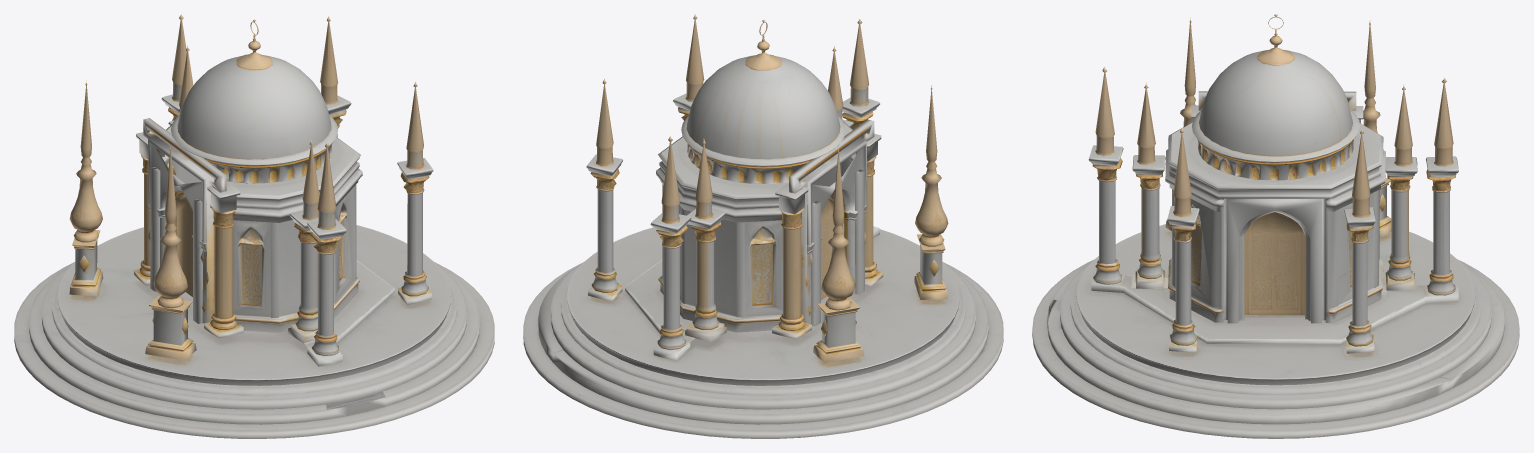
The model's file is 天庭3d模型.fbx.
3 views of the same model, side by side, from view 1: azimuth 30°, elevation 25°; view 2: azimuth 150°, elevation 25°; view 3: azimuth 270°, elevation 25° (orthographic).
Parts seen in each view (by area): view 1: tripo_60e454ff_a32a_44eb_b0ac_2dc24e769344; view 2: tripo_60e454ff_a32a_44eb_b0ac_2dc24e769344; view 3: tripo_60e454ff_a32a_44eb_b0ac_2dc24e769344.
Boxes of the visible parts, x1,y1,x2,y2 form: tripo_60e454ff_a32a_44eb_b0ac_2dc24e769344: (14,14,494,438); tripo_60e454ff_a32a_44eb_b0ac_2dc24e769344: (523,14,1003,438); tripo_60e454ff_a32a_44eb_b0ac_2dc24e769344: (1032,14,1519,438).
Size of the model in its own units: 0.9995 by 0.729 by 0.9995.
1 material, 1 textured.
